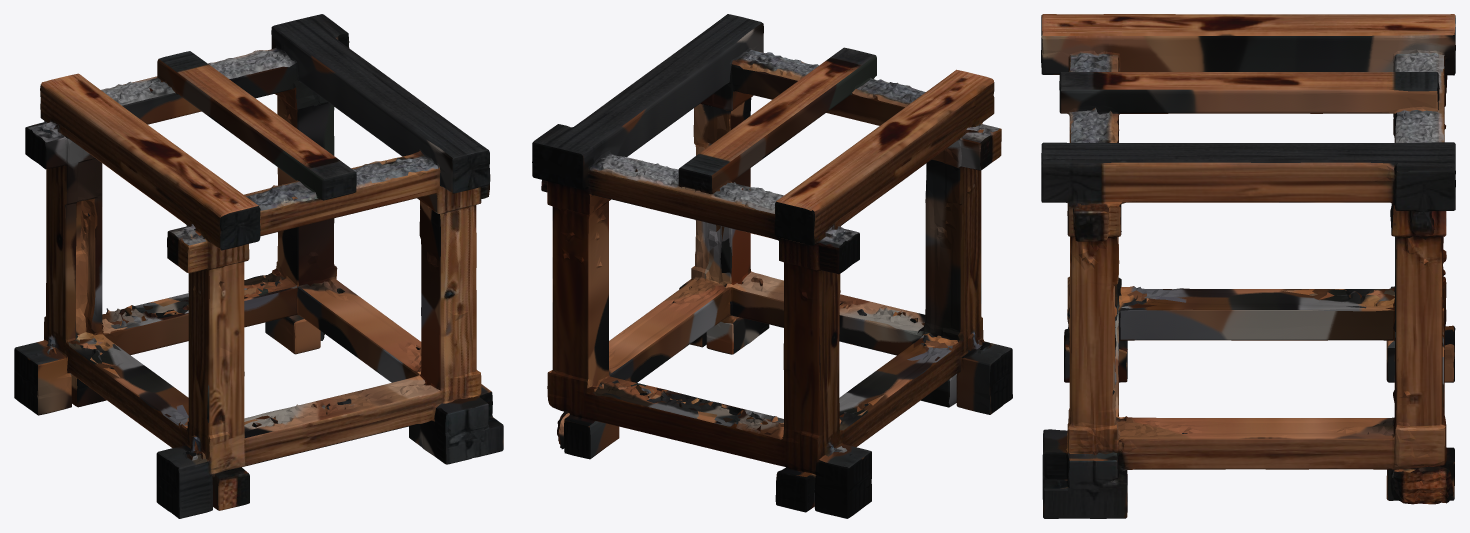
The model's file is traveler_env_coast_ojatara_collapsed_timber_00001_.glb.
3 renders of one model, left to right at view 1: azimuth 30°, elevation 25°; view 2: azimuth 150°, elevation 25°; view 3: azimuth 270°, elevation 25°, orthographic. The views are drawn at different scales.
Visible parts, largest first — view 1: temp_mesh.ply; view 2: temp_mesh.ply; view 3: temp_mesh.ply.
Part boxes in pixels (x1,y1,x2,y2): temp_mesh.ply: [14, 14, 503, 518]; temp_mesh.ply: [532, 14, 1012, 518]; temp_mesh.ply: [1041, 14, 1455, 518].
Size of the model in its own units: 1.97 by 1.85 by 1.97.
Materials: 1 (1 with a texture image).
